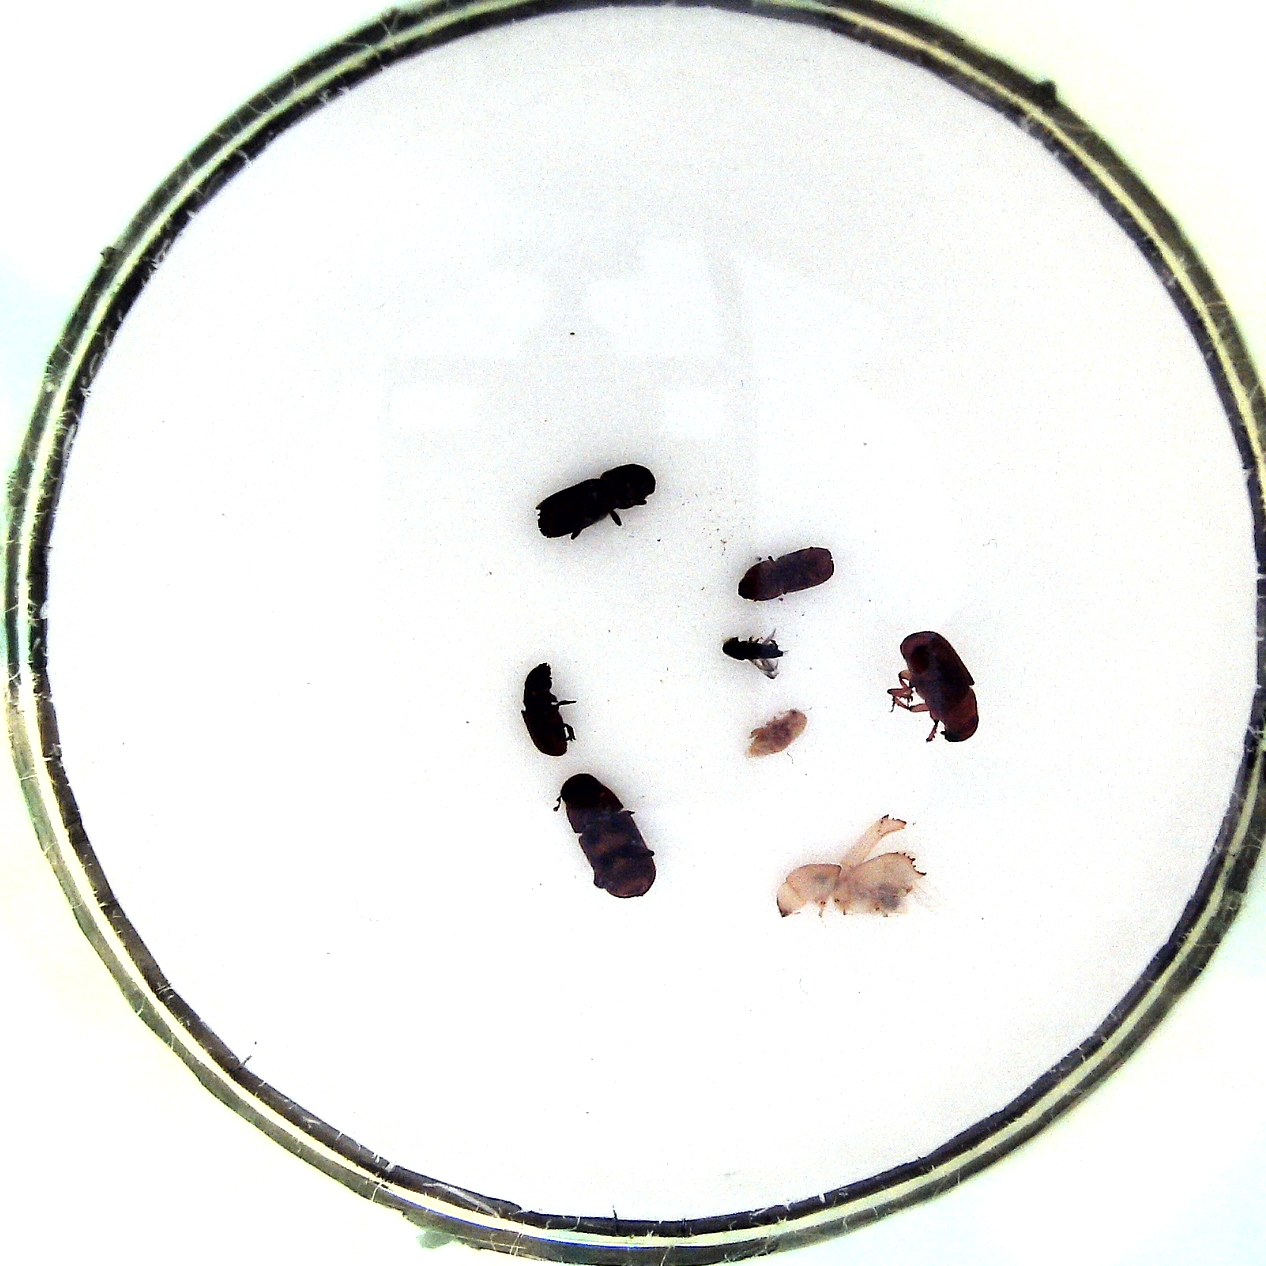Boerner: (769, 810, 927, 925), (534, 461, 653, 545)
Leconte: (548, 776, 659, 904), (882, 630, 985, 750)
Linnaeus: (728, 547, 841, 606)
acuminatus: (736, 707, 807, 767)
armandi: (514, 659, 577, 763)
coleoptera: (718, 627, 791, 674)
